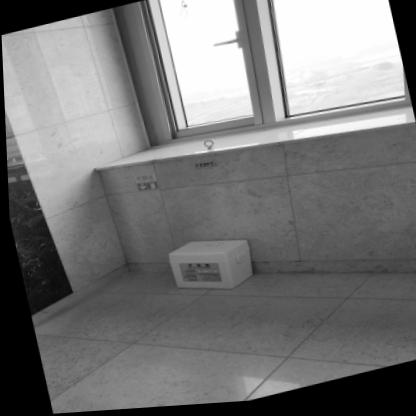DDL: (162, 230, 253, 303)
